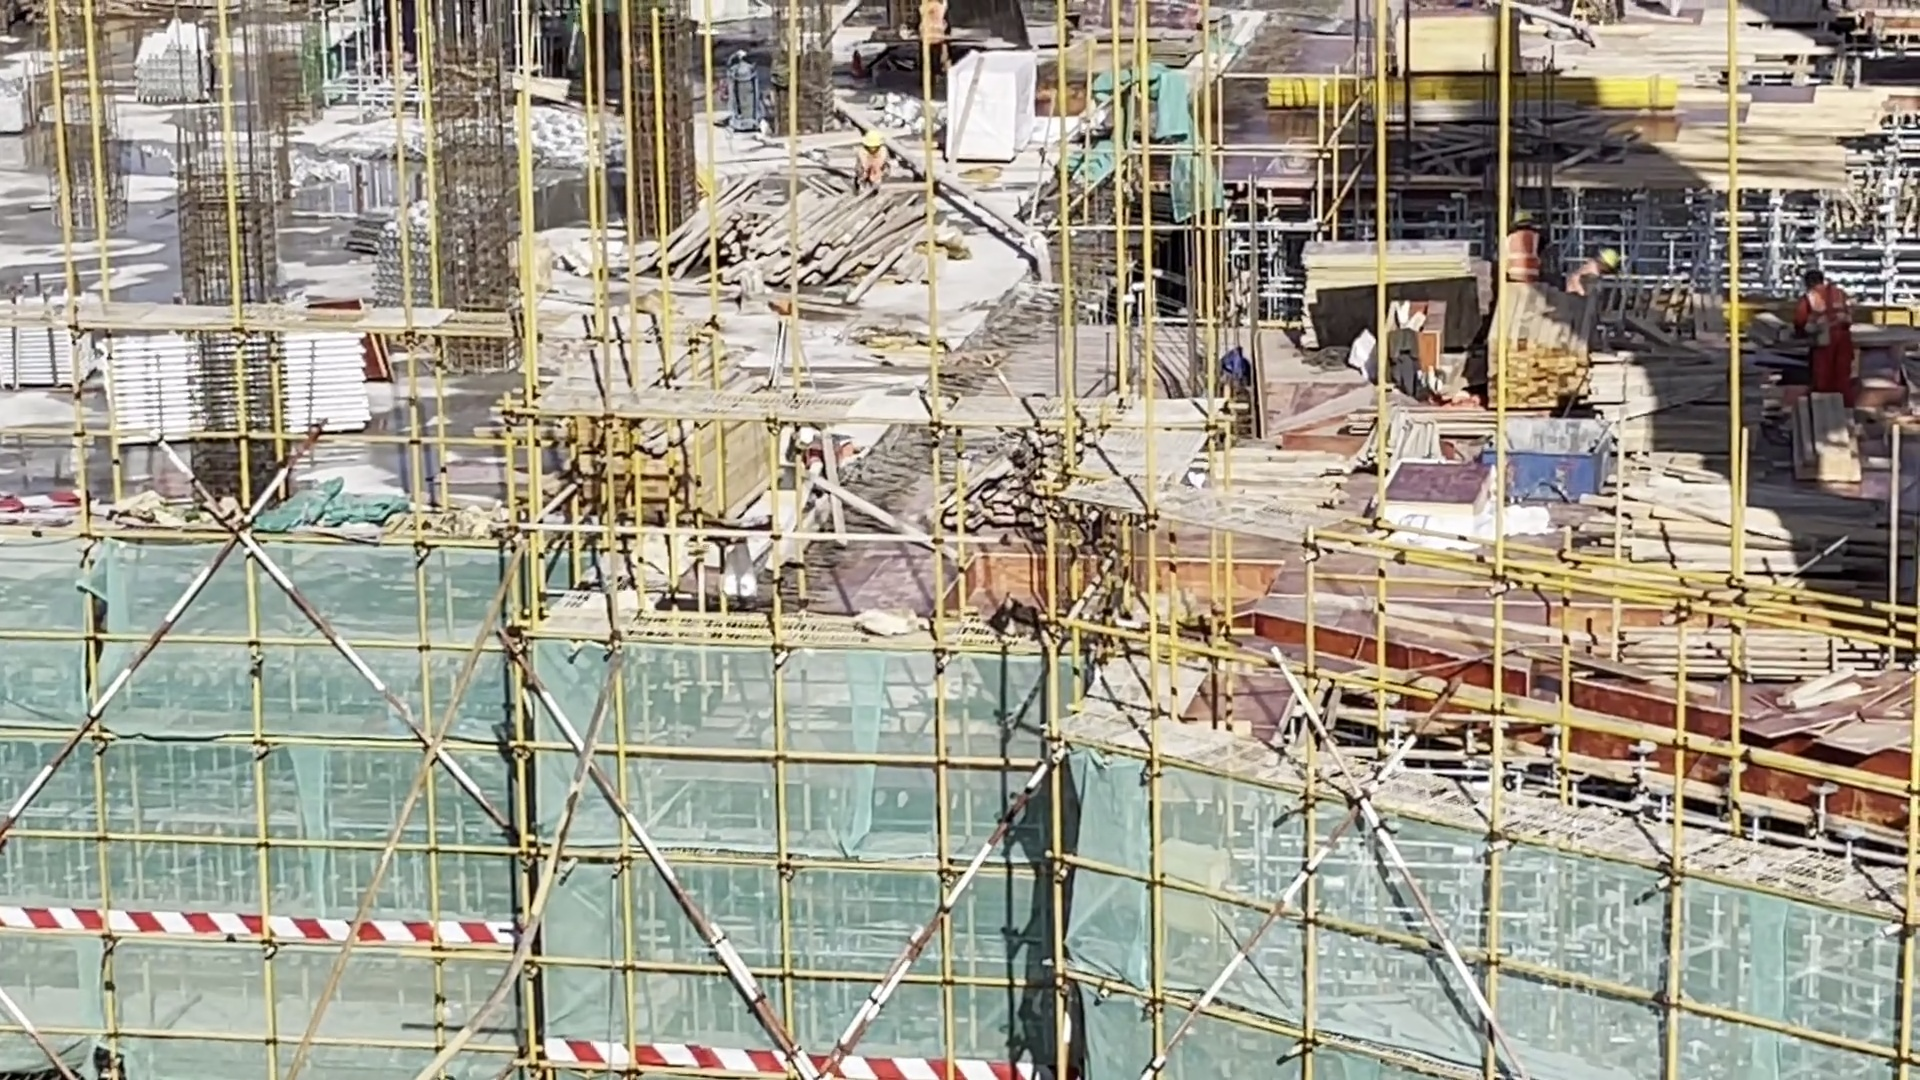board: (1751, 661, 1920, 766)
helmet: (1510, 204, 1538, 232), (855, 129, 881, 156), (792, 425, 815, 452), (1591, 245, 1617, 263)
hopper: (1486, 404, 1636, 524)
person: (1780, 266, 1848, 383), (787, 425, 860, 479), (1563, 242, 1628, 302), (1506, 210, 1547, 284), (856, 133, 891, 195)
scaffold: (95, 327, 369, 450), (7, 286, 101, 383)
vest: (1506, 230, 1542, 277), (1567, 260, 1608, 291), (862, 152, 887, 182)
wood: (664, 174, 937, 337), (1600, 456, 1889, 597), (555, 376, 770, 523), (1604, 602, 1896, 685), (1464, 296, 1630, 419)
